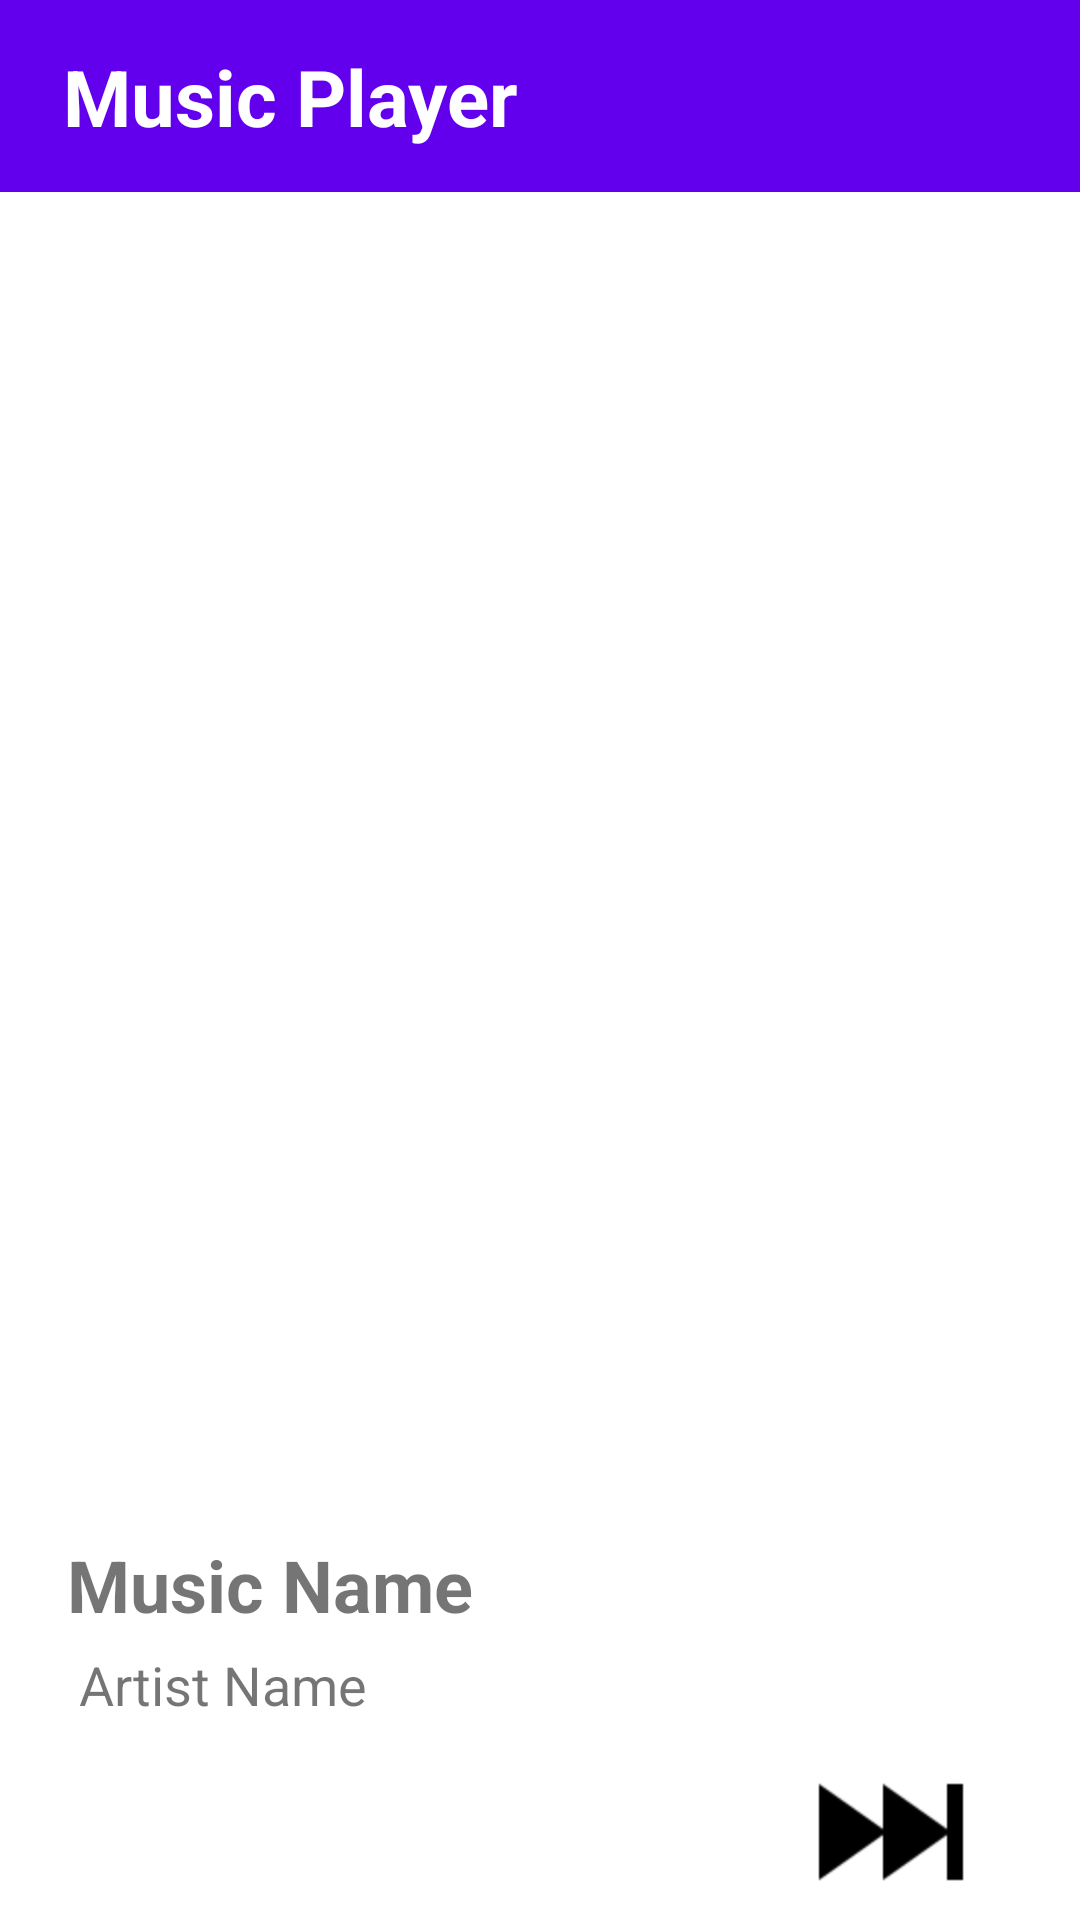

Icon bounding boxes for this 1080w x 1920h phone screenshot, format Rect(x1, y1, x2, y2):
next: Rect(818, 1783, 964, 1881)
